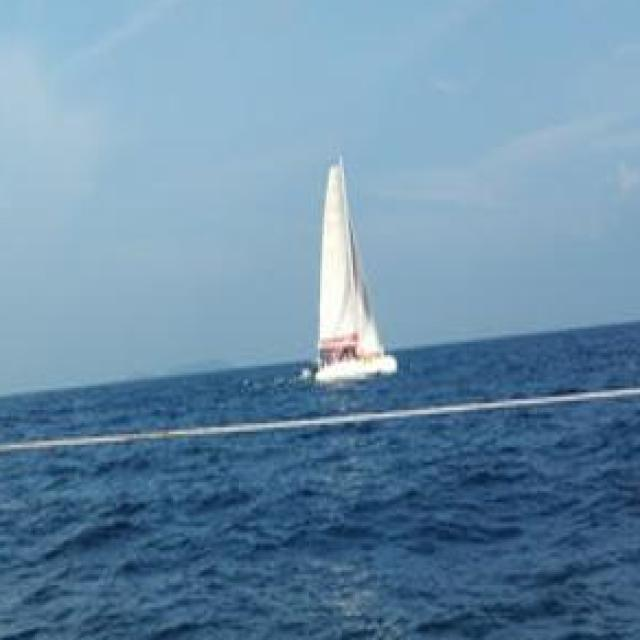sailboat: (284, 142, 419, 378)
